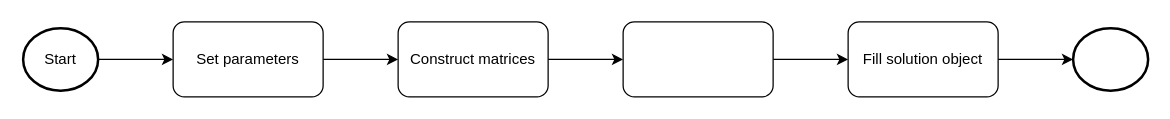
Image size: 1170x119. Some labels were removed from this diagram. Each missing label, with the box of its shape:
End: (1071, 26, 1149, 91)
Solve system of ODEs: (622, 21, 773, 97)
